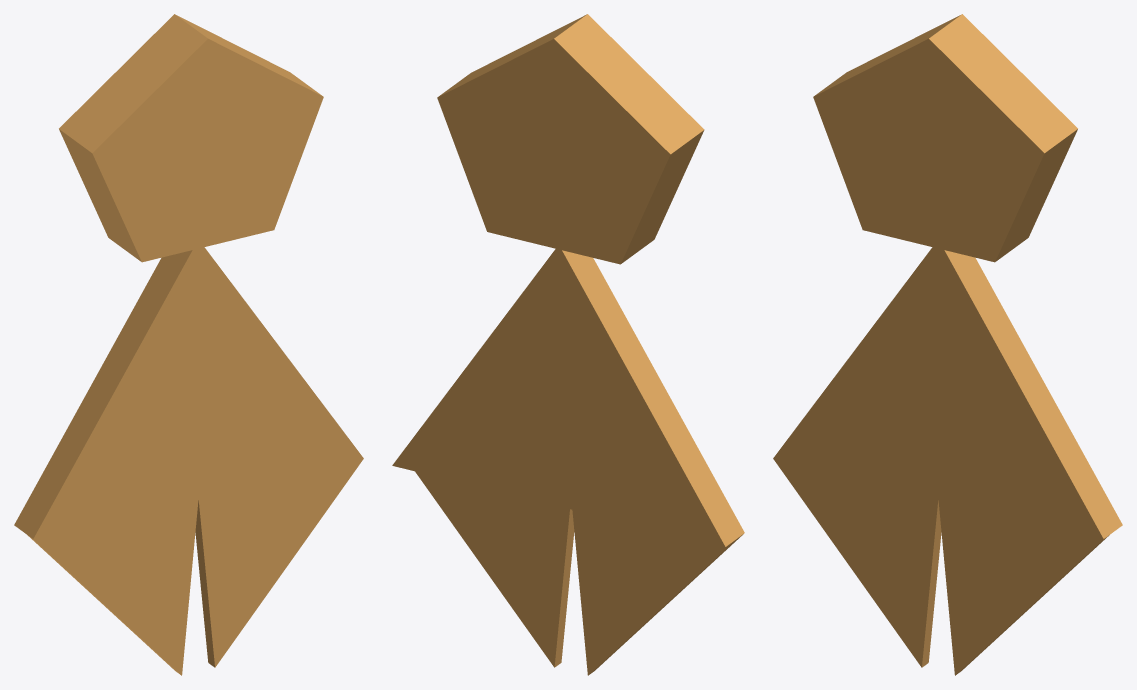
File: Girl.fbx
The picture shows the model from 3 angles, left to right: view 1: azimuth 30°, elevation 25°; view 2: azimuth 150°, elevation 25°; view 3: azimuth 330°, elevation 25°; orthographic projection.
Visible parts, largest first — view 1: Circle.001, Circle, Circle.003, Circle.002; view 2: Circle.001, Circle, Circle.003, Circle.002; view 3: Circle.001, Circle, Circle.002, Circle.003.
Part boxes in pixels (<box>): Circle.001: <box>14,247,363,539</box>; Circle: <box>59,14,323,262</box>; Circle.003: <box>195,458,363,667</box>; Circle.002: <box>27,499,198,675</box>; Circle.001: <box>392,249,744,546</box>; Circle: <box>437,14,704,264</box>; Circle.003: <box>415,471,574,667</box>; Circle.002: <box>572,510,743,675</box>; Circle.001: <box>773,247,1122,539</box>; Circle: <box>813,14,1077,262</box>; Circle.002: <box>773,458,941,667</box>; Circle.003: <box>938,499,1109,675</box>.
Bounding box in the file's own units: 20 × 37 × 3.52.
